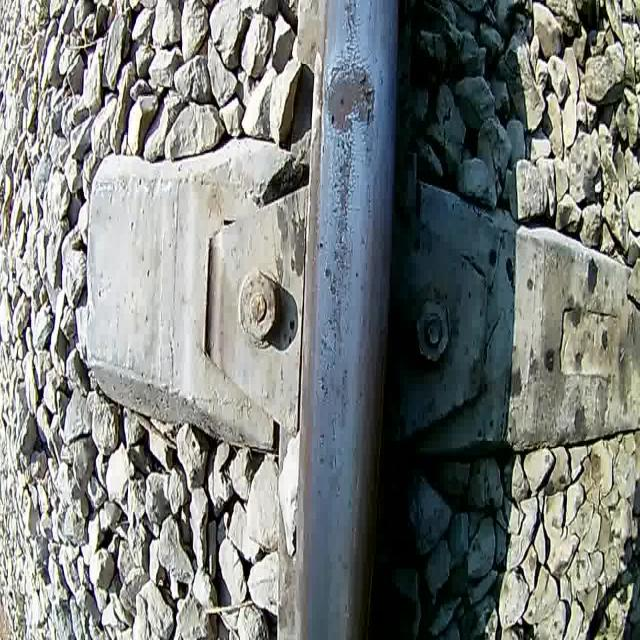Squats: (320, 52, 379, 144)
